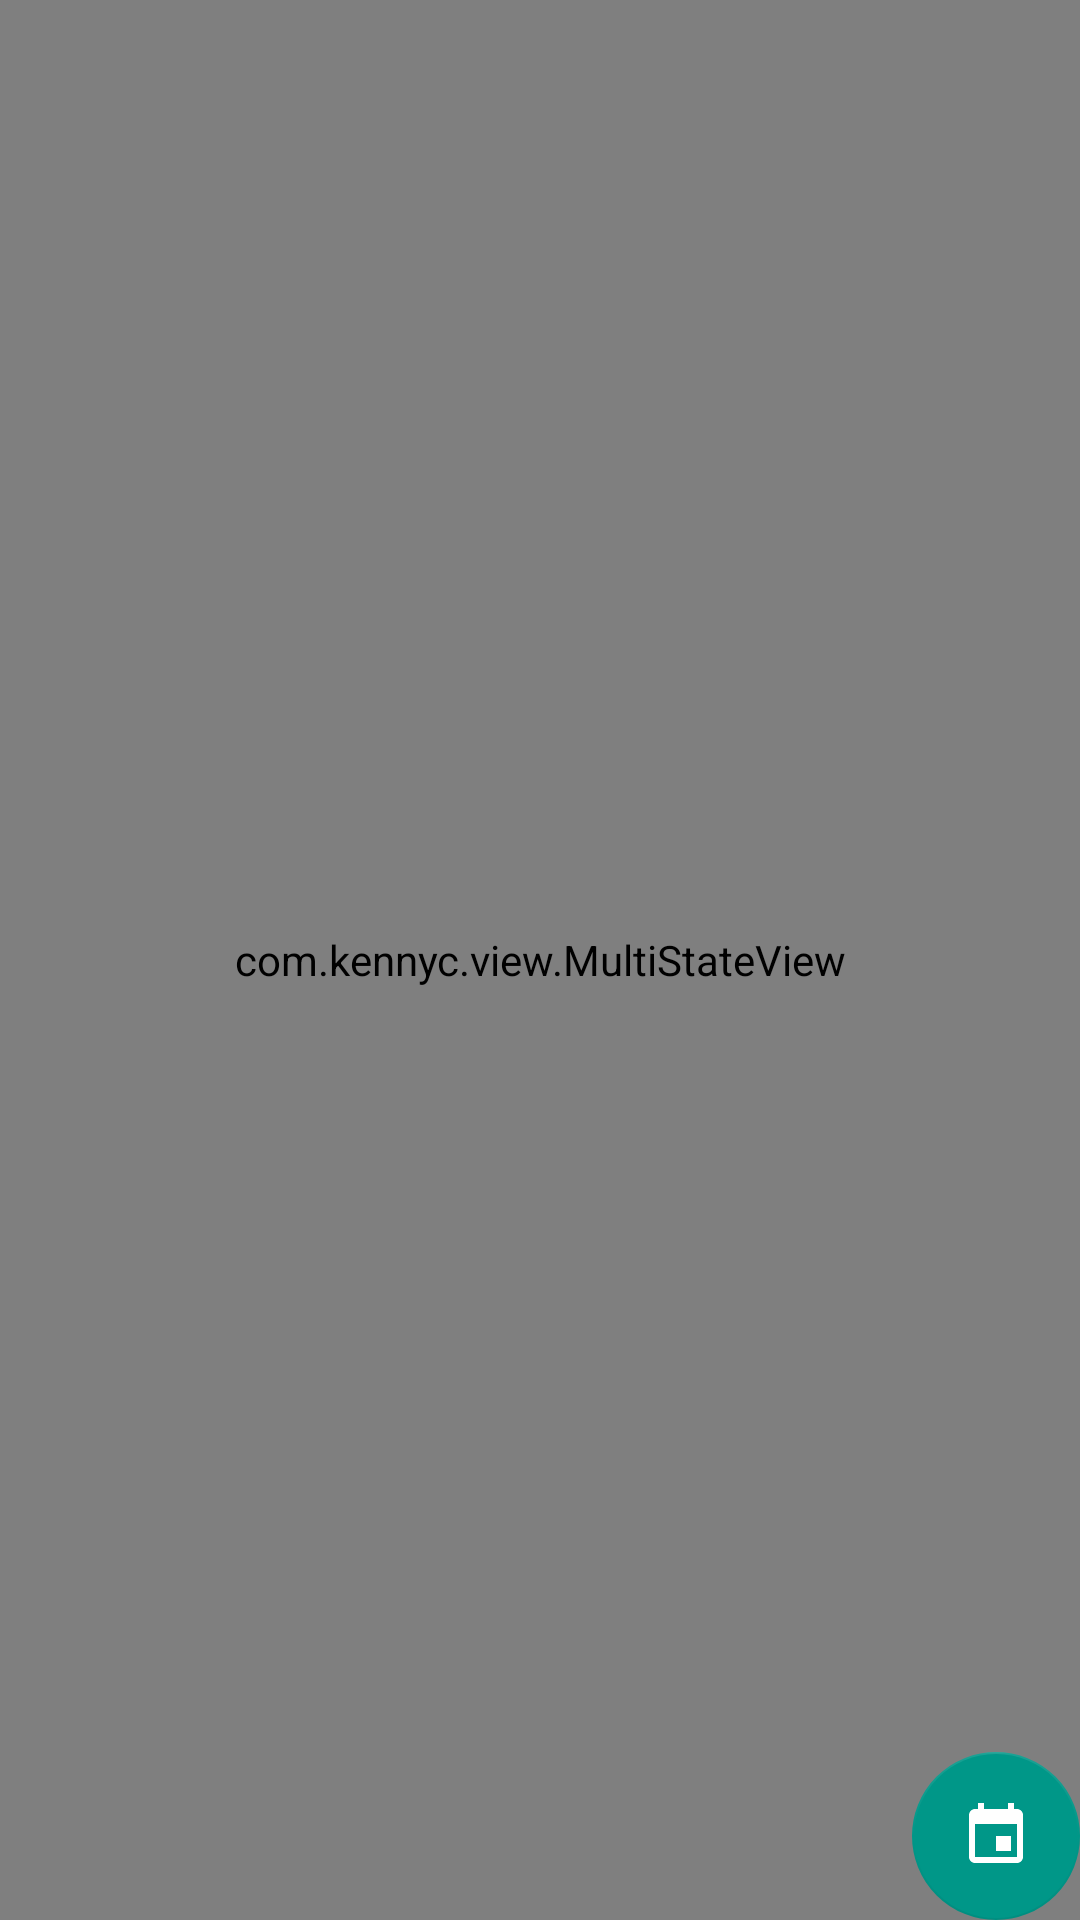

Screen size 1080px x 1920px. Icon name, then its box in pixels as (x1, y1, x2, y2):
datetime picker: (912, 1752, 1080, 1920)
